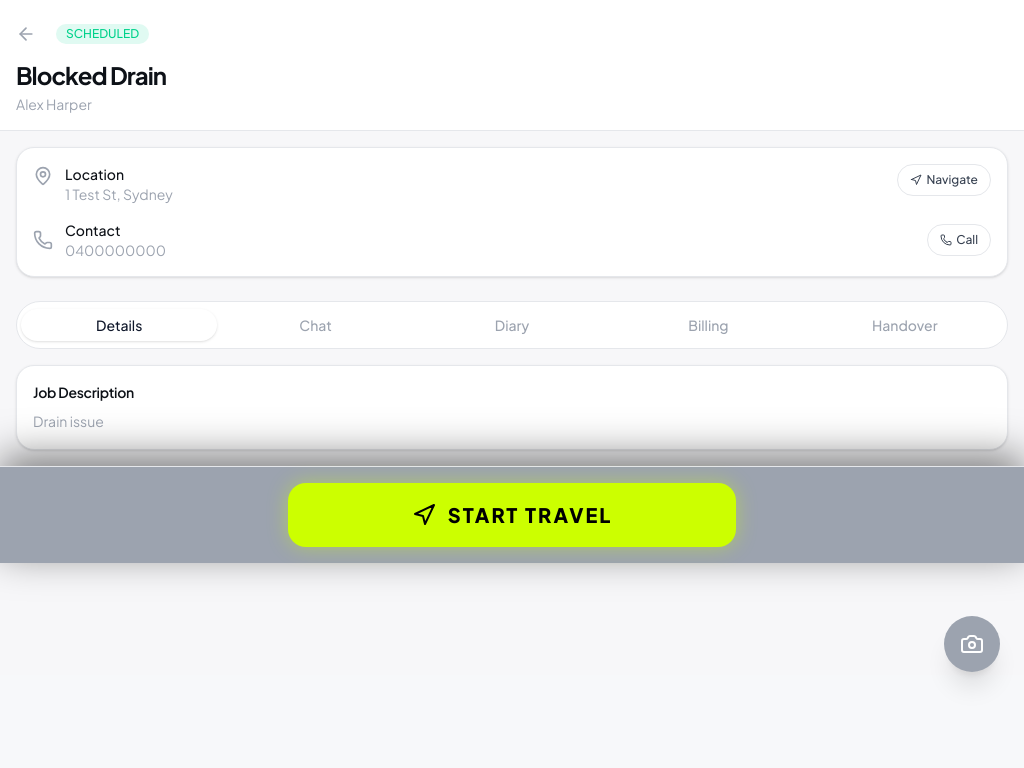
Tradie JobDetailView › routes the chat tab into the real unified customer timeline
Click the tab "Chat" at (316, 325), box [217,309,414,341]
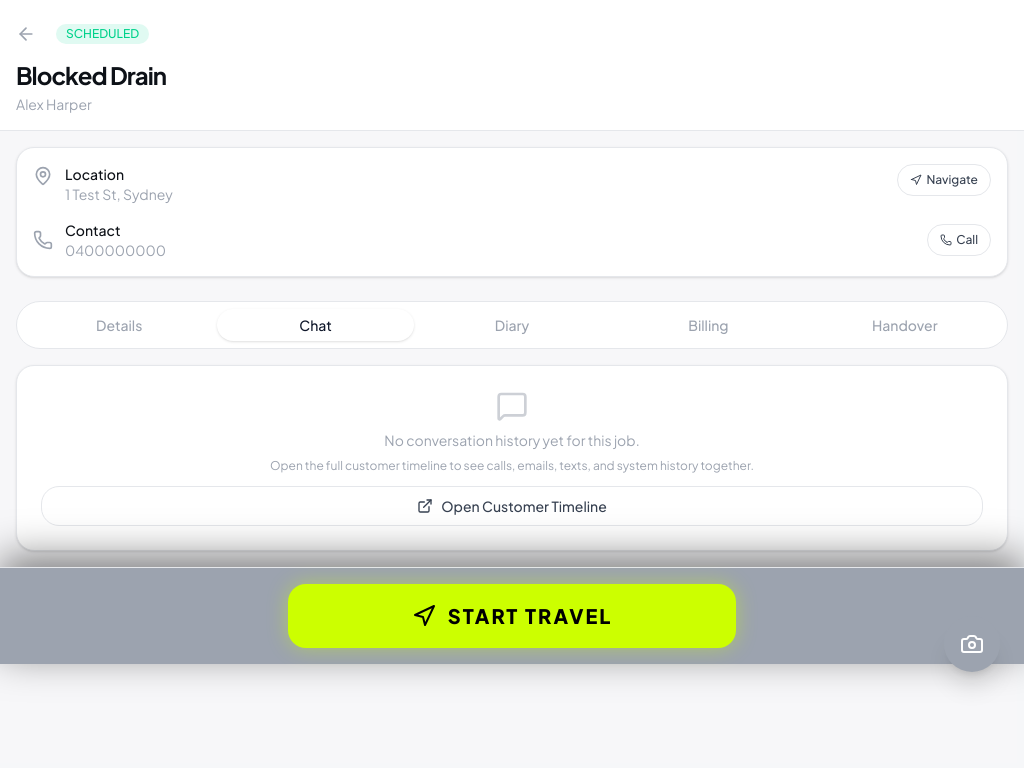
Expected: the text "Open the full customer timeline to see calls, emails, texts, and system history together" is shown, [270,458,754,473]
